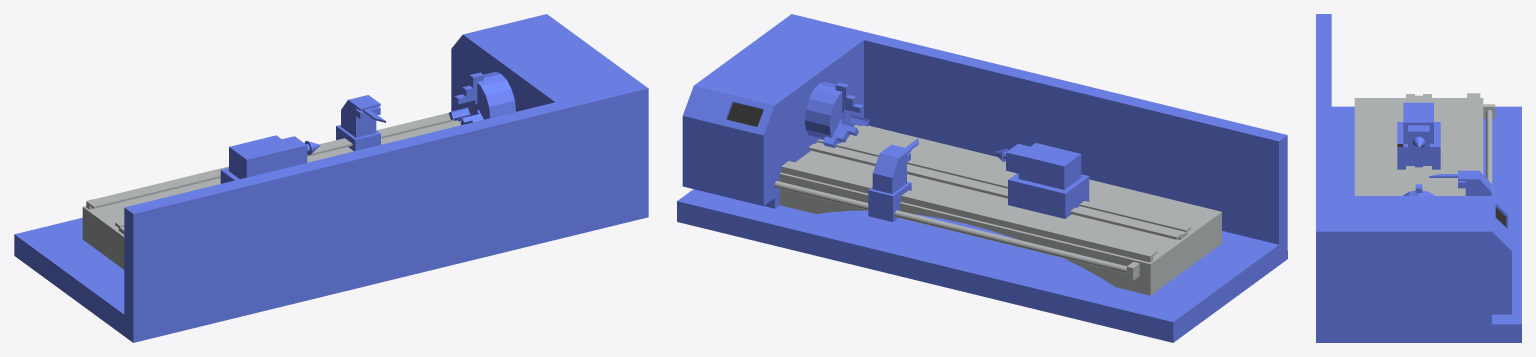
Rendered from Gantry_Lathe.obj.
3 views of the same model, side by side, from view 1: azimuth 30°, elevation 25°; view 2: azimuth 150°, elevation 25°; view 3: azimuth 270°, elevation 25° (orthographic). The views are drawn at different scales.
Visible parts, largest first — view 1: Frame, Mechanics, Gantry; view 2: Frame, Gantry, Mechanics; view 3: Frame, Gantry, Mechanics.
Boxes of the visible parts, <box> form: Frame: <box>14,14,648,342</box>; Mechanics: <box>220,71,515,183</box>; Gantry: <box>82,112,461,269</box>; Frame: <box>677,14,1287,342</box>; Gantry: <box>774,125,1221,295</box>; Mechanics: <box>804,81,1089,221</box>; Frame: <box>1316,14,1521,342</box>; Gantry: <box>1354,93,1495,195</box>; Mechanics: <box>1397,102,1495,198</box>.
Bounding box in the file's own units: 4 × 0.9559 × 1.6.
Materials: 3 (3 with a texture image).
